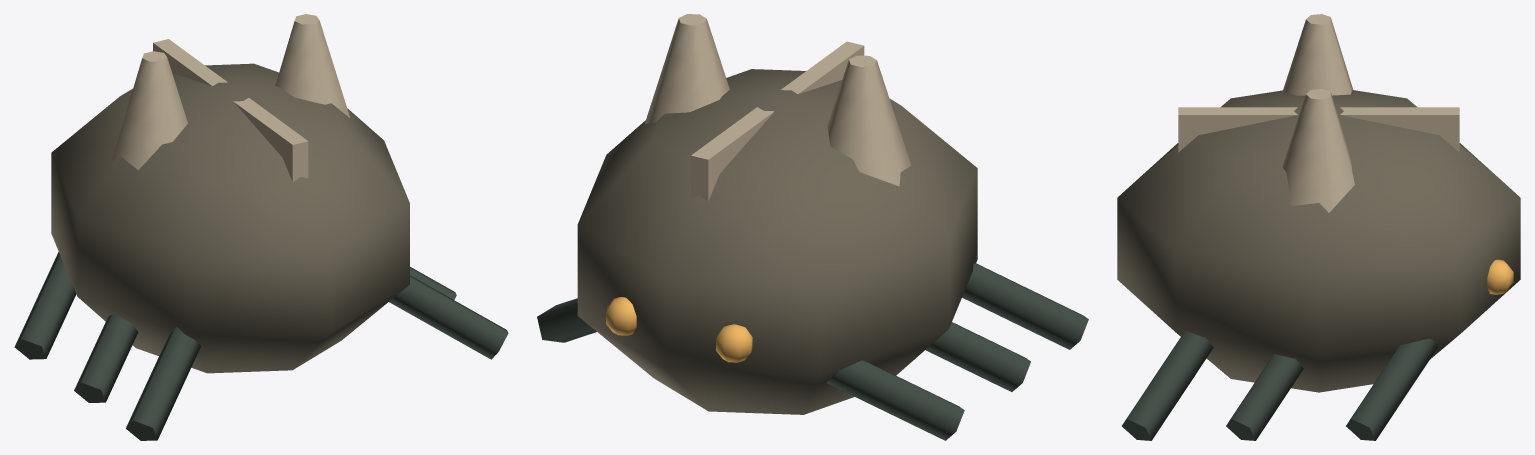
The model's file is shellback.glb.
The picture shows the model from 3 angles, left to right: view 1: azimuth 30°, elevation 25°; view 2: azimuth 150°, elevation 25°; view 3: azimuth 270°, elevation 25°; orthographic projection. The views are drawn at different scales.
Visible parts, largest first — view 1: _MeshInstance3D_58, _MeshInstance3D_62, _MeshInstance3D_66, _MeshInstance3D_65, _MeshInstance3D_61, _MeshInstance3D_67, _MeshInstance3D_59, _MeshInstance3D_60; view 2: _MeshInstance3D_58, _MeshInstance3D_62, _MeshInstance3D_66, _MeshInstance3D_59, _MeshInstance3D_61, _MeshInstance3D_67, _MeshInstance3D_60, _MeshInstance3D_63, _MeshInstance3D_68, _MeshInstance3D_69; view 3: _MeshInstance3D_58, _MeshInstance3D_66, _MeshInstance3D_67, _MeshInstance3D_65, _MeshInstance3D_63, _MeshInstance3D_62, _MeshInstance3D_64, _MeshInstance3D_69.
Part boxes in pixels (x1,y1,x2,y2): _MeshInstance3D_58: (51, 63, 409, 373); _MeshInstance3D_62: (111, 51, 187, 170); _MeshInstance3D_66: (275, 14, 349, 117); _MeshInstance3D_65: (389, 275, 508, 359); _MeshInstance3D_61: (126, 326, 200, 440); _MeshInstance3D_67: (153, 39, 308, 181); _MeshInstance3D_59: (14, 252, 76, 359); _MeshInstance3D_60: (74, 313, 138, 402); _MeshInstance3D_58: (577, 69, 977, 414); _MeshInstance3D_62: (827, 55, 911, 186); _MeshInstance3D_66: (644, 14, 729, 124); _MeshInstance3D_59: (826, 360, 964, 440); _MeshInstance3D_61: (962, 263, 1088, 349); _MeshInstance3D_67: (691, 41, 864, 201); _MeshInstance3D_60: (925, 322, 1030, 391); _MeshInstance3D_63: (537, 298, 596, 342); _MeshInstance3D_68: (716, 324, 752, 362); _MeshInstance3D_69: (606, 297, 636, 335); _MeshInstance3D_58: (1117, 90, 1520, 392); _MeshInstance3D_66: (1282, 89, 1354, 212); _MeshInstance3D_67: (1178, 107, 1459, 152); _MeshInstance3D_65: (1122, 331, 1213, 440); _MeshInstance3D_63: (1346, 338, 1438, 440); _MeshInstance3D_62: (1282, 14, 1353, 95); _MeshInstance3D_64: (1226, 354, 1303, 440); _MeshInstance3D_69: (1487, 259, 1513, 294).
Size of the model in its own units: 0.8447 by 0.6658 by 0.7738.
